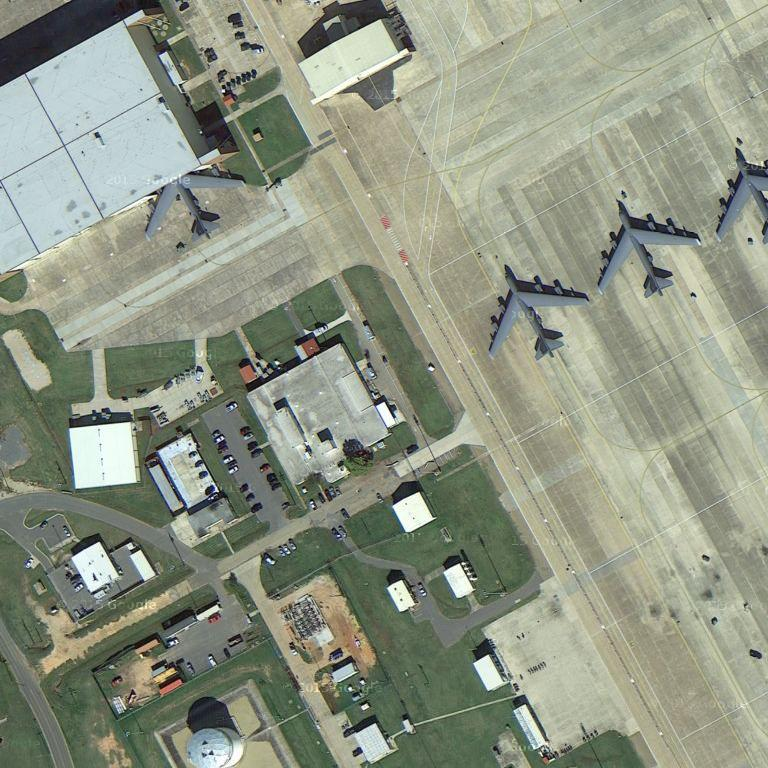B-52: (593, 205, 704, 303), (483, 263, 590, 362), (712, 141, 768, 242)
